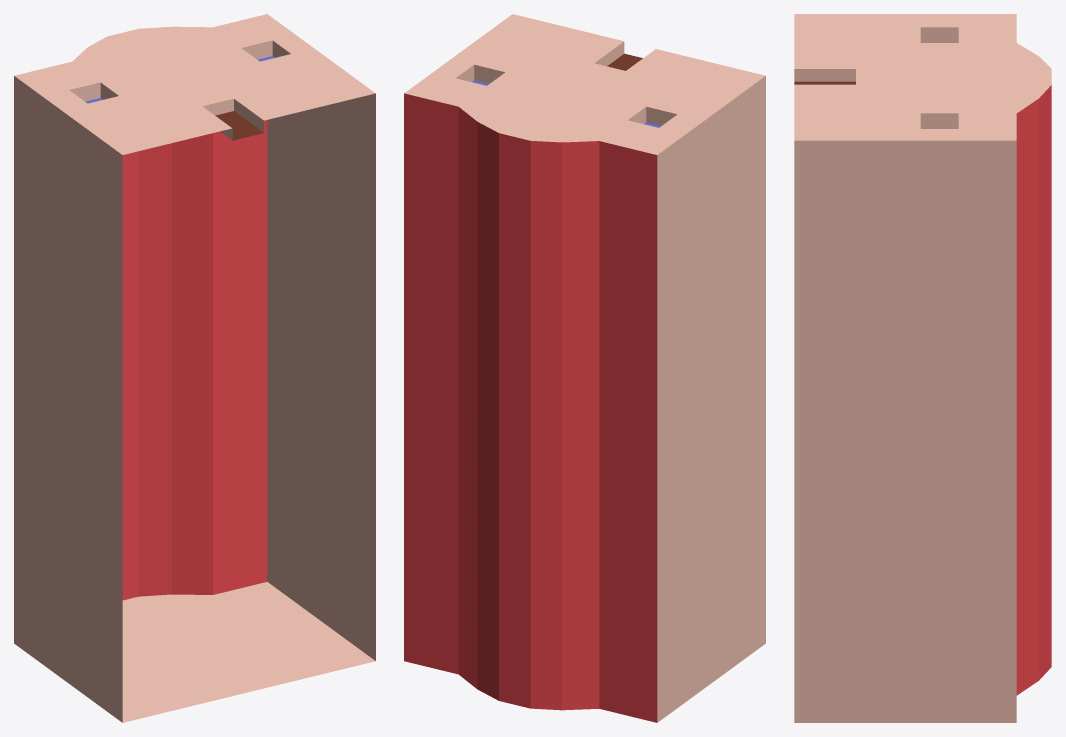
File: House.fbx
The picture shows the model from 3 angles, left to right: view 1: azimuth 30°, elevation 25°; view 2: azimuth 150°, elevation 25°; view 3: azimuth 270°, elevation 25°; orthographic projection. The views are drawn at different scales.
Parts seen in each view (by area): view 1: House; view 2: House; view 3: House.
Part boxes in pixels (x1,y1,x2,y2): House: [14, 14, 375, 722]; House: [404, 14, 765, 722]; House: [794, 14, 1051, 722].
Bounding box in the file's own units: 269 × 578 × 231.
